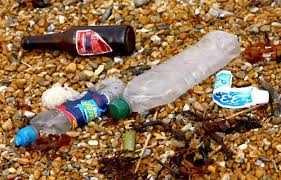glass: (17, 17, 137, 69)
plastic: (109, 28, 243, 126), (13, 70, 127, 160), (209, 69, 270, 110)
